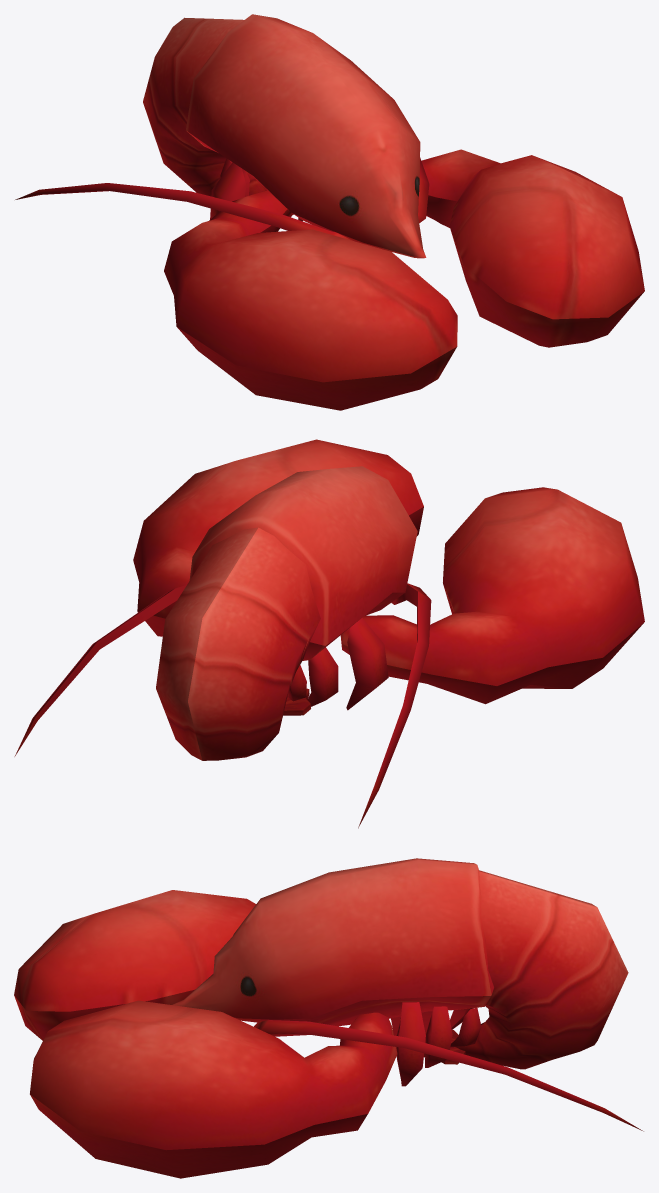
File: Lobster.fbx
3 views of the same model, one above another, from view 1: azimuth 30°, elevation 25°; view 2: azimuth 150°, elevation 25°; view 3: azimuth 270°, elevation 25° (orthographic). The views are drawn at different scales.
Visible parts, largest first — view 1: Lobster_1; view 2: Lobster_1; view 3: Lobster_1.
Boxes of the visible parts, x1,y1,x2,y2 form: Lobster_1: (15,14,644,410); Lobster_1: (14,439,644,828); Lobster_1: (14,858,643,1178).
Bounding box in the file's own units: 72.54 × 38.14 × 93.62.
Materials: 1 (1 with a texture image).
